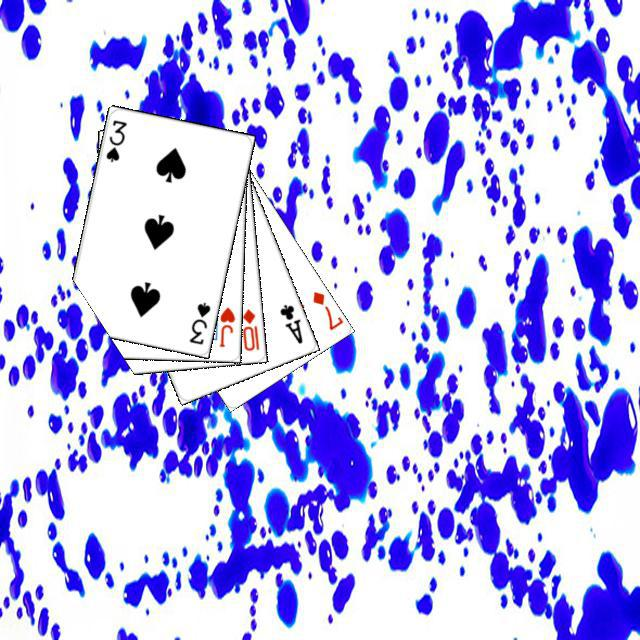10d: (238, 304, 261, 352)
3s: (184, 297, 212, 346), (101, 115, 128, 164)
7d: (307, 286, 344, 332)
Ac: (275, 299, 304, 346)
Jh: (214, 302, 236, 349)
